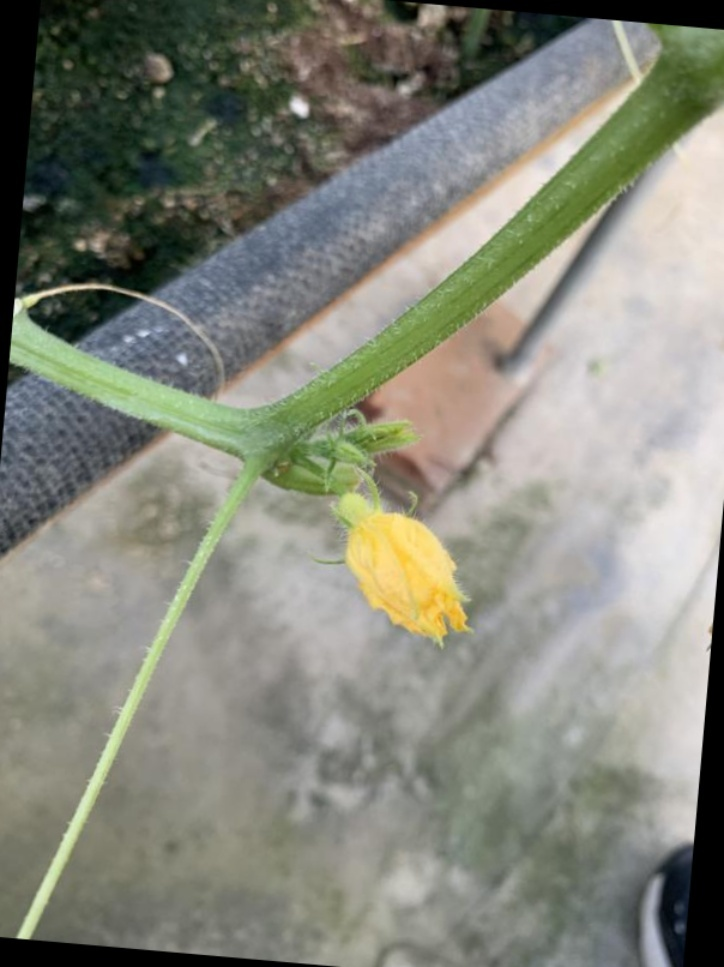bud: (312, 484, 496, 652)
